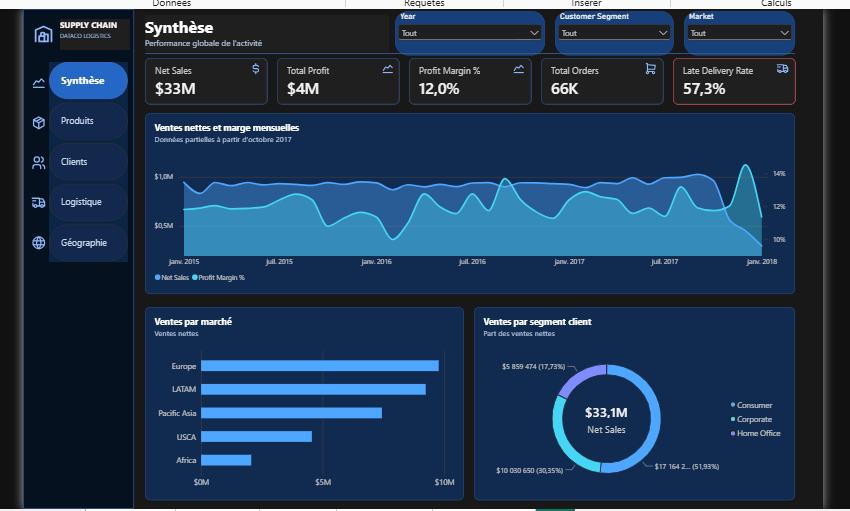

This screenshot's page, from the dashboard's own definition file:
{"tool":"powerbi","page":{"name":"Synthèse","canvas":[1440,900],"ordinal":0},"visuals":[{"type":"shape","box":[0,0,200,900],"z":0},{"type":"textbox","box":[66,18,126,56],"z":1000},{"type":"pageNavigator","box":[46,96,142,360],"z":2000},{"type":"textbox","box":[220,10,438.8,66],"z":4000},{"type":"image","box":[14,118,28,28],"z":4000},{"type":"image","box":[14,190,28,28],"z":4000},{"type":"image","box":[14,262,28,28],"z":4000},{"type":"image","box":[14,334,28,28],"z":4000},{"type":"image","box":[14,406,28,28],"z":4000},{"type":"slicer","title":"Année","fields":{"Values":["Dim_Date.Year"]},"box":[670,4,270,80],"z":5000},{"type":"slicer","title":"Marché","fields":{"Values":["Dim_Geography.Market"]},"box":[1189.8,4,200.2,80],"z":6000},{"type":"slicer","title":"Segment client","fields":{"Values":["Dim_Customer.Customer Segment"]},"box":[958,4,213.8,80],"z":7000},{"type":"cardVisual","fields":{"Data":["Fact_OrderItems.Total Orders"]},"box":[932.1,88,220.5,84],"z":8000},{"type":"cardVisual","fields":{"Data":["Fact_OrderItems.Net Sales"]},"box":[220,88,220.5,84],"z":9000},{"type":"cardVisual","fields":{"Data":["Fact_OrderItems.Total Profit"]},"box":[457.4,88,220.5,84],"z":10000},{"type":"cardVisual","fields":{"Data":["Fact_OrderItems.Profit Margin %"]},"box":[694.8,88,220.5,84],"z":11000},{"type":"cardVisual","fields":{"Data":["Fact_OrderItems.Late Delivery Rate"]},"box":[1169.5,88,220.5,84],"z":12000},{"type":"shape","box":[220,80,1170,1],"z":12050},{"type":"areaChart","title":"Ventes nettes et marge mensuelles","fields":{"Category":["Dim_Date.Date.Variation.Hiérarchie de dates.Année","Dim_Date.Date.Variation.Hiérarchie de dates.Mois"],"Y":["Fact_OrderItems.Net Sales"],"Y2":["Fact_OrderItems.Profit Margin %"]},"box":[220,188,1170,326.4],"z":13000},{"type":"clusteredBarChart","title":"Ventes par marché","fields":{"Category":["Dim_Geography.Market"],"Y":["Fact_OrderItems.Net Sales"]},"box":[220,536.2,573.8,348.2],"z":15000},{"type":"donutChart","title":"Ventes par segment client","fields":{"Category":["Dim_Customer.Customer Segment"],"Y":["Fact_OrderItems.Net Sales"]},"box":[811.8,536.2,578.2,348.2],"z":16000},{"type":"image","box":[18,25,38,38],"z":25000},{"type":"image","box":[404.5,96,27,24],"z":25001},{"type":"image","box":[641.9,96,27,24],"z":25001},{"type":"image","box":[879.2,96,27,24],"z":25001},{"type":"image","box":[1116.6,96,27,24],"z":25001},{"type":"image","box":[1354,96,27,24],"z":25001}]}

Visuals, with their boxes on the page's 1440x900 design canvas (x1, y1, x2, y2). These are canvas units, not pixel positions in the 850x511 screenshot, which may show the page scaled, cropped or inside an application window:
shape: crop(0, 0, 200, 900)
textbox: crop(66, 18, 192, 74)
pageNavigator: crop(46, 96, 188, 456)
textbox: crop(220, 10, 659, 76)
image: crop(14, 118, 42, 146)
image: crop(14, 190, 42, 218)
image: crop(14, 262, 42, 290)
image: crop(14, 334, 42, 362)
image: crop(14, 406, 42, 434)
"Année" slicer: crop(670, 4, 940, 84)
"Marché" slicer: crop(1190, 4, 1390, 84)
"Segment client" slicer: crop(958, 4, 1172, 84)
cardVisual - Fact_OrderItems.Total Orders: crop(932, 88, 1153, 172)
cardVisual - Fact_OrderItems.Net Sales: crop(220, 88, 440, 172)
cardVisual - Fact_OrderItems.Total Profit: crop(457, 88, 678, 172)
cardVisual - Fact_OrderItems.Profit Margin %: crop(695, 88, 915, 172)
cardVisual - Fact_OrderItems.Late Delivery Rate: crop(1170, 88, 1390, 172)
shape: crop(220, 80, 1390, 81)
"Ventes nettes et marge mensuelles" areaChart: crop(220, 188, 1390, 514)
"Ventes par marché" clusteredBarChart: crop(220, 536, 794, 884)
"Ventes par segment client" donutChart: crop(812, 536, 1390, 884)
image: crop(18, 25, 56, 63)
image: crop(404, 96, 432, 120)
image: crop(642, 96, 669, 120)
image: crop(879, 96, 906, 120)
image: crop(1117, 96, 1144, 120)
image: crop(1354, 96, 1381, 120)
